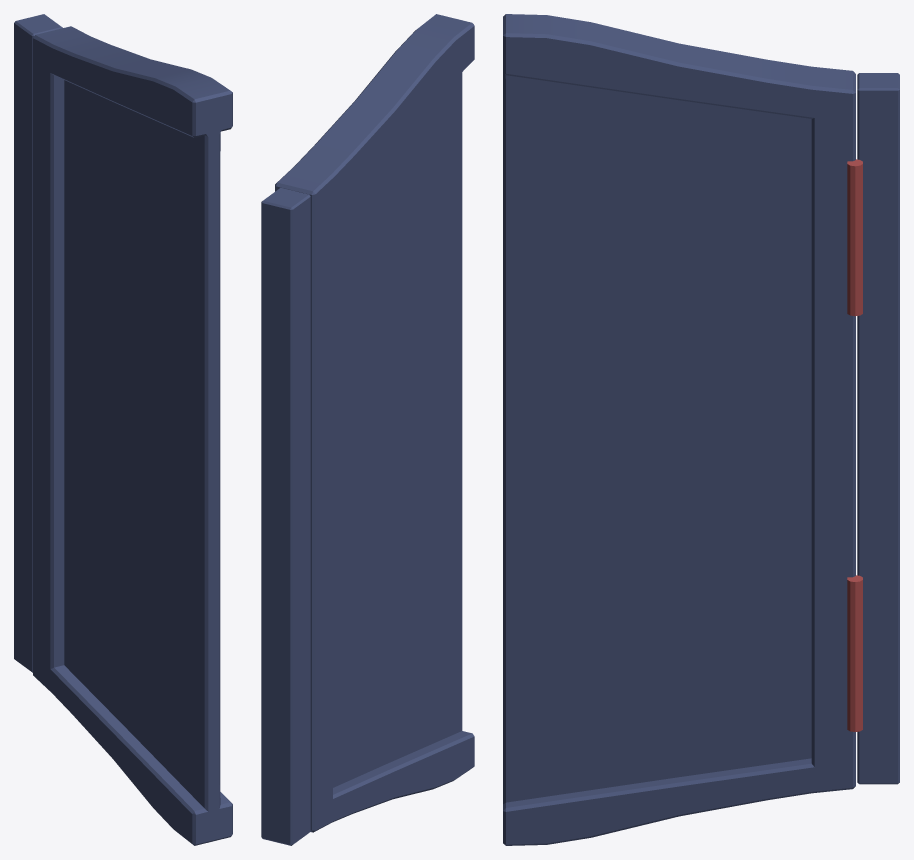
File: Anta_DX.fbx
The picture shows the model from 3 angles, left to right: view 1: azimuth 30°, elevation 25°; view 2: azimuth 150°, elevation 25°; view 3: azimuth 270°, elevation 25°; orthographic projection. The views are drawn at different scales.
Parts seen in each view (by area): view 1: Anta_DX; view 2: Anta_DX; view 3: Anta_DX.
Boxes of the visible parts, x1,y1,x2,y2 form: Anta_DX: (14,14,232,845); Anta_DX: (261,14,474,845); Anta_DX: (503,14,899,845).
Bounding box in the file's own units: 0.2289 × 3.27 × 1.45.
